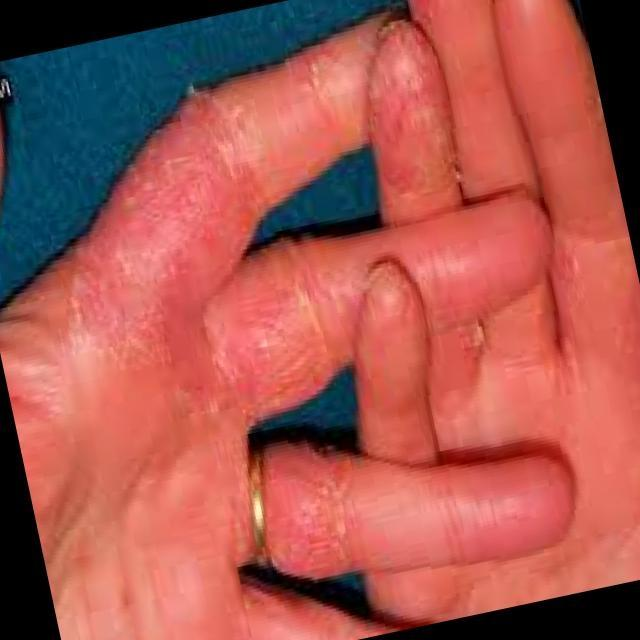Eczema: (55, 24, 462, 586)
